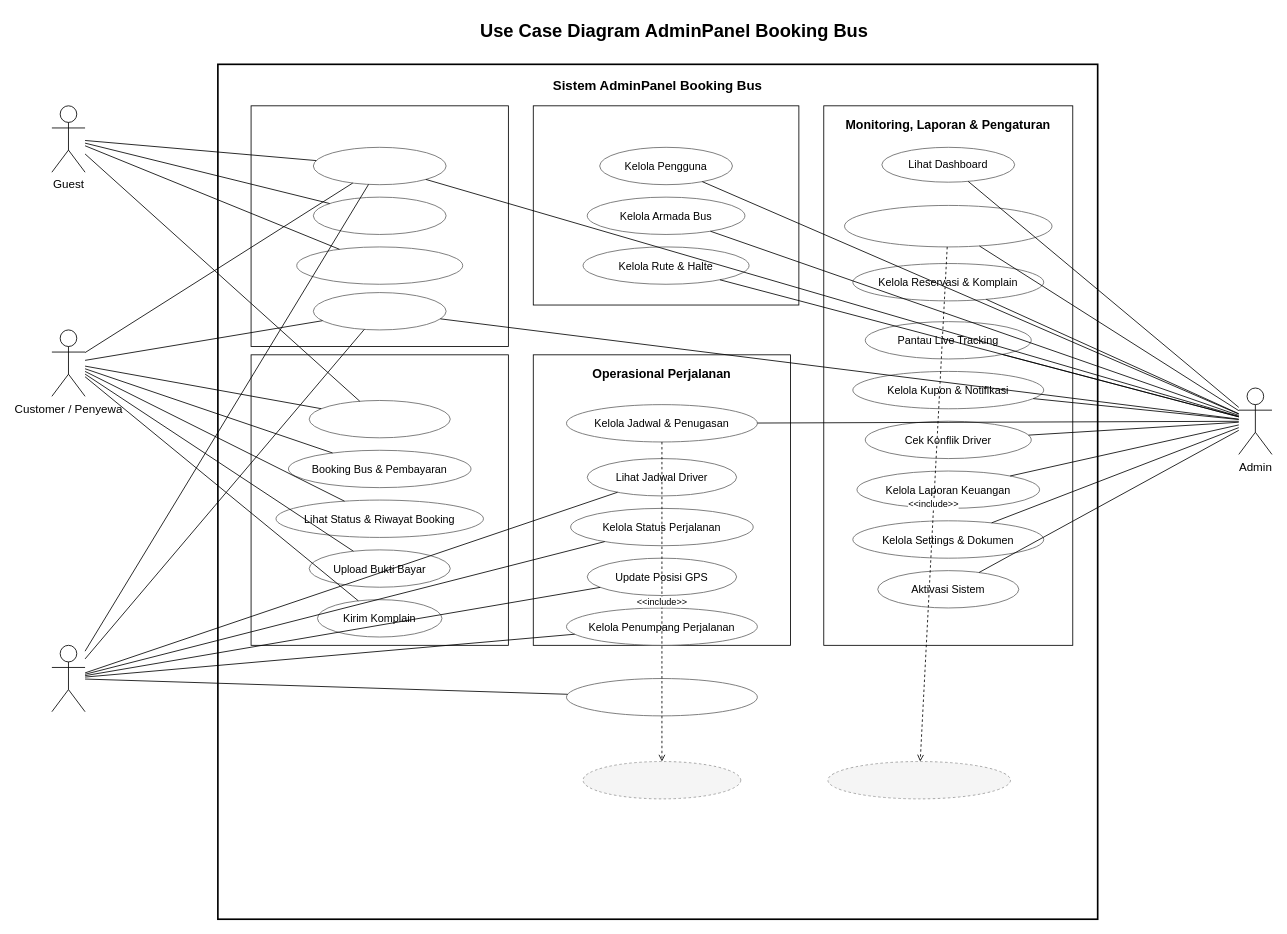
This 1287x934 diagram has some shape labels left out. Each missing label, with the box of its shape:
Assign Driver / Bus: (582, 761, 741, 799)
Cari Rute / Jadwal: (308, 400, 450, 438)
Driver: (51, 644, 85, 712)
Kelola Booking & Pembayaran: (844, 205, 1052, 247)
Kelola Info Driver & Wallet: (566, 678, 757, 716)
Kelola Profil: (312, 292, 446, 330)
Login: (312, 146, 446, 185)
Manajemen Akses: (250, 105, 508, 347)
Manajemen Data Master: (532, 105, 799, 305)
Register Akun: (312, 196, 446, 234)
Reset / Ubah Password: (296, 246, 463, 284)
Review Bukti Pembayaran: (827, 761, 1011, 799)
Transaksi Booking & Komplain: (250, 354, 508, 645)
